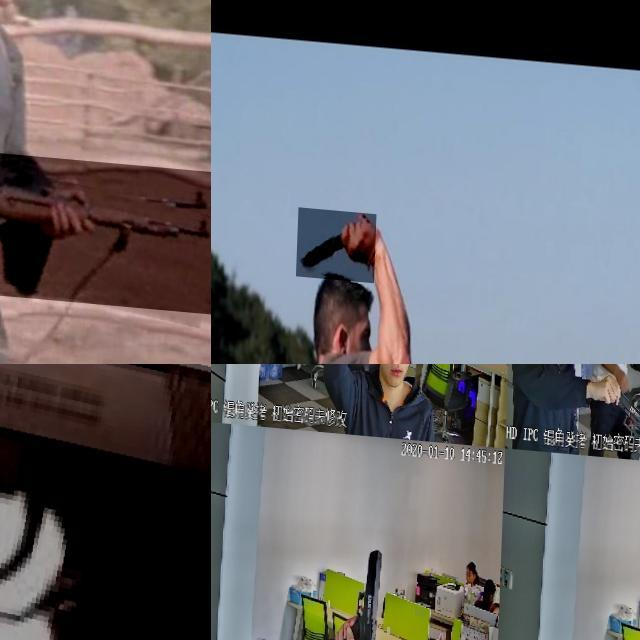-: (298, 204, 378, 278)
gun-knife-thesis - v11 Yolov5 augmented: (0, 364, 211, 640), (0, 133, 211, 306), (339, 542, 384, 640), (613, 376, 640, 451), (351, 364, 404, 400)
